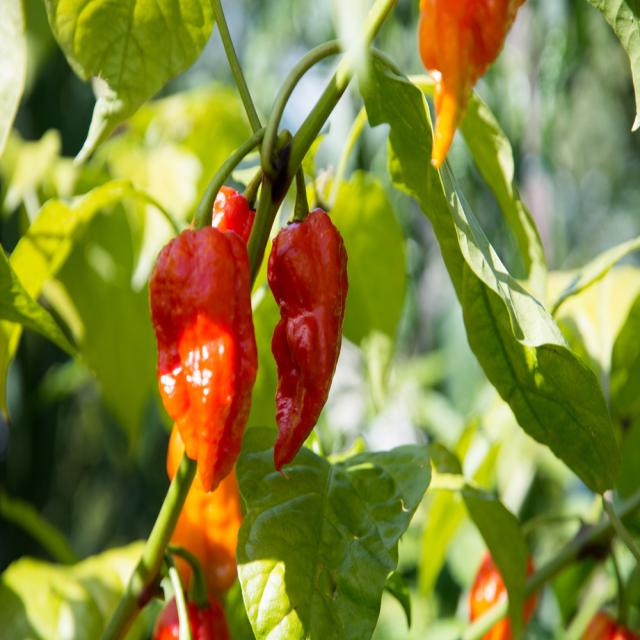Ripe: (149, 225, 258, 492), (268, 208, 349, 470), (212, 186, 254, 244)
